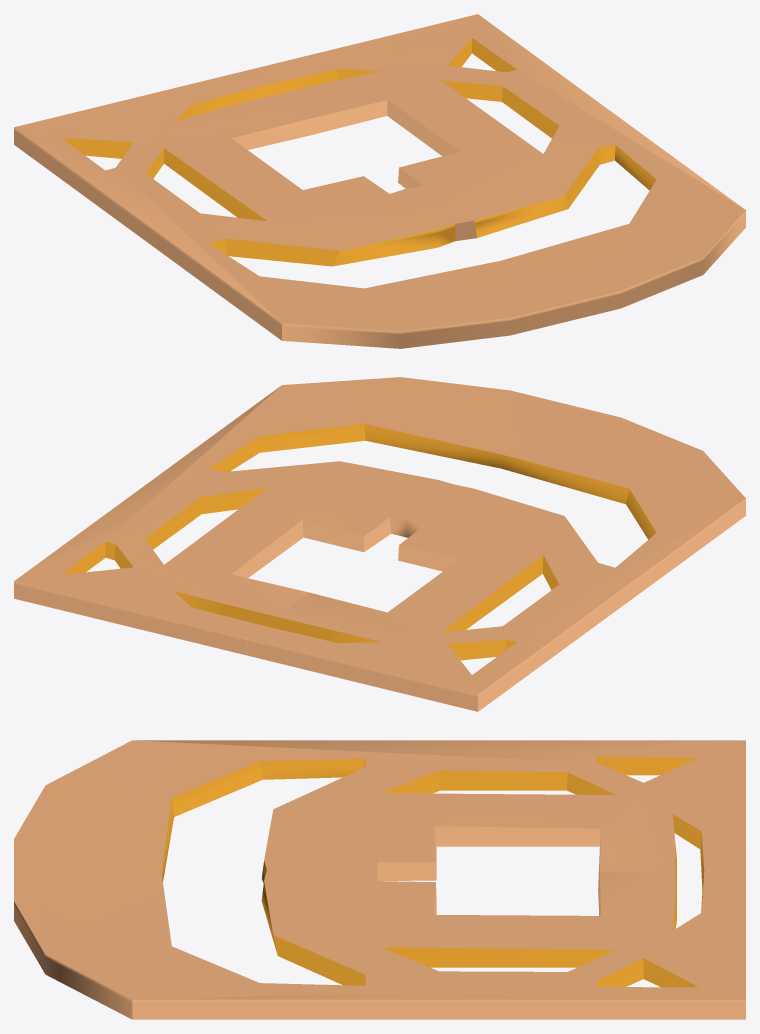
File: Praça 1.fbx
The picture shows the model from 3 angles, top to bottom: view 1: azimuth 30°, elevation 25°; view 2: azimuth 150°, elevation 25°; view 3: azimuth 270°, elevation 25°; orthographic projection. The views are drawn at different scales.
Parts seen in each view (by area): view 1: Plane.007; view 2: Plane.007; view 3: Plane.007.
Part boxes in pixels (x1,y1,x2,y2): Plane.007: (14,14,745,348); Plane.007: (14,377,745,711); Plane.007: (14,740,745,1019).
Size of the model in its own units: 517 by 18.61 by 617.
